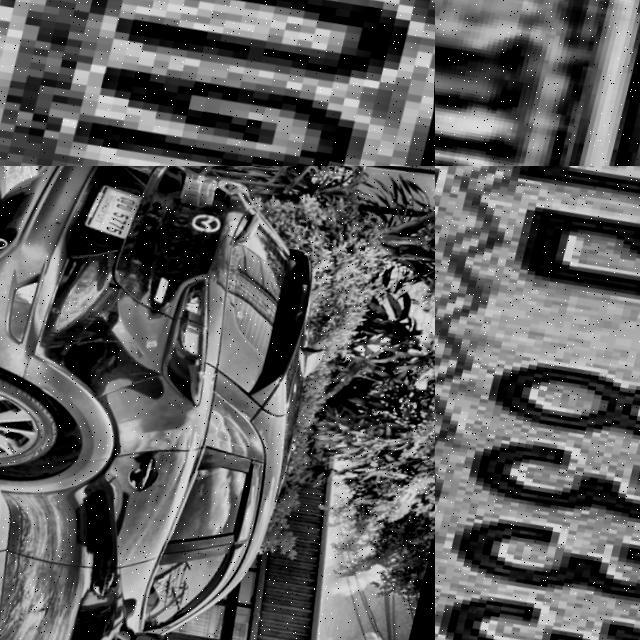license-plate: (435, 166, 640, 640), (0, 0, 435, 166), (435, 0, 640, 166), (79, 185, 147, 247)
